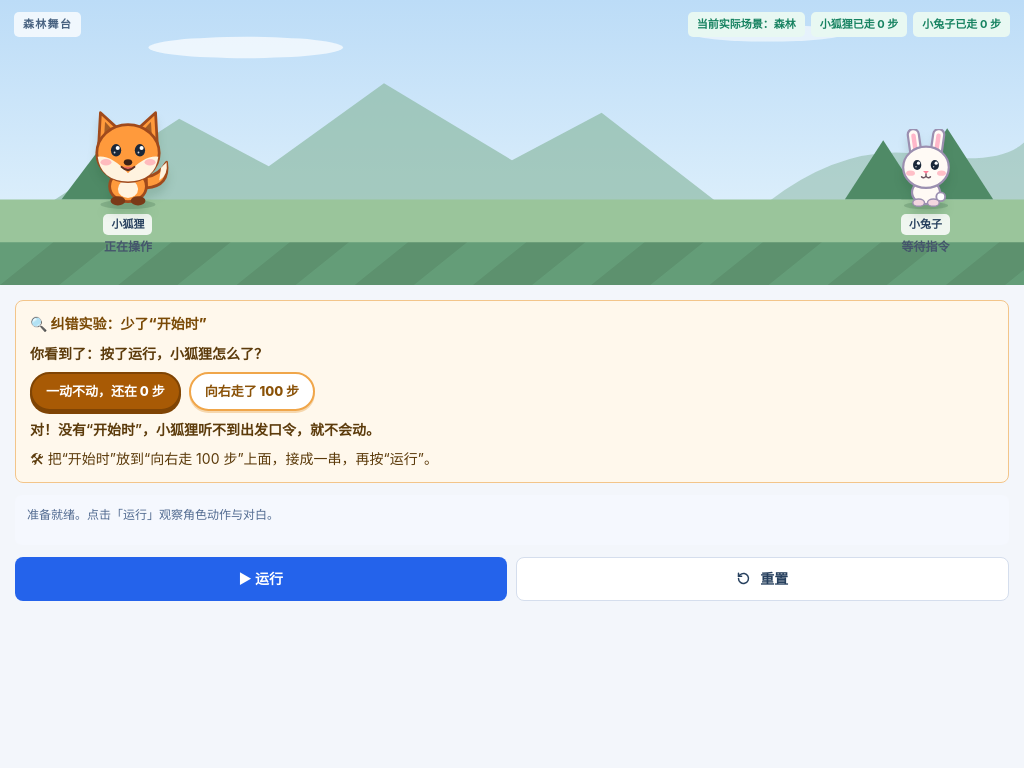
Test: PlayableStage designed mistake step (TQ-010) › after observing, running the wrong program again is a real failed run (normal feedback)
What coordinates should you click on to do the following:
click the button with test id "run-code-button"
I would click on:
 (261, 579)
Its box is x1=15 y1=557 x2=506 y2=601.
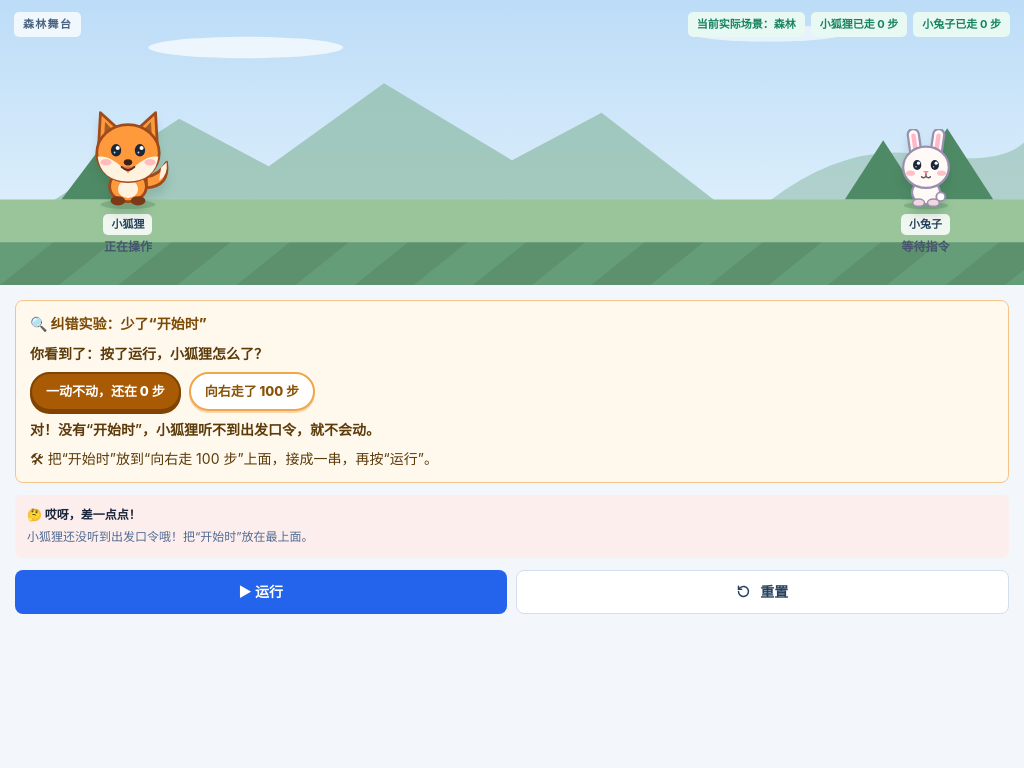
Check: the element with test id "stage-run-error" shows "哎呀，差一点点！", box x1=27 y1=507 x2=141 y2=522
